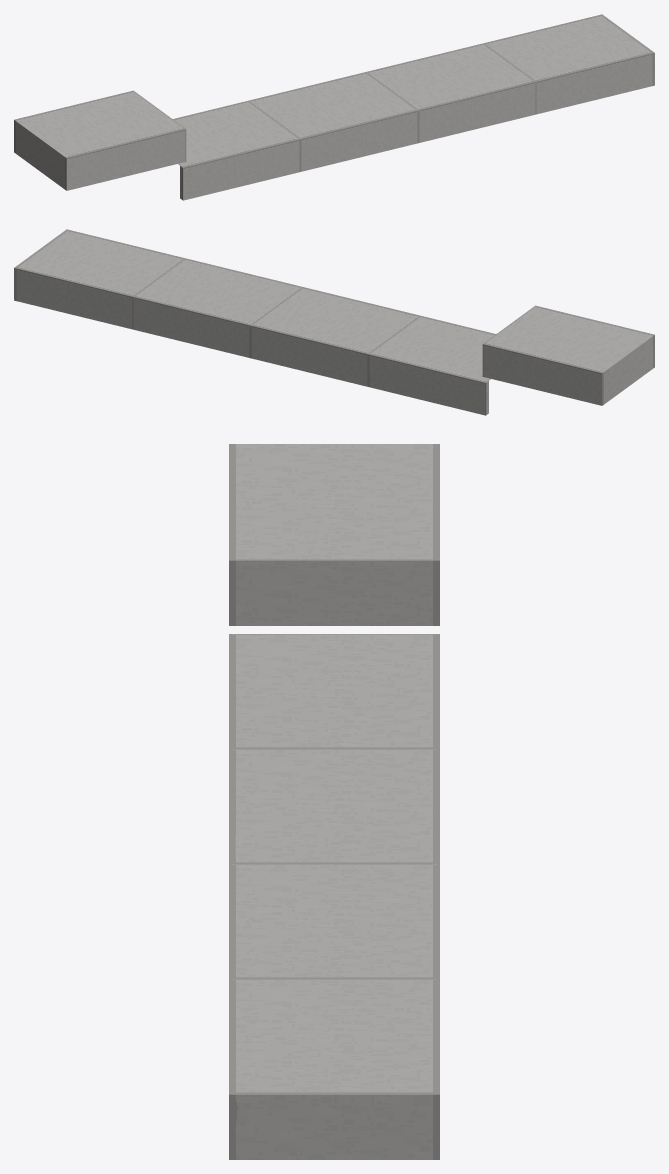
The model's file is kd_stage_135b75_4_146.glb.
3 renders of one model, top to bottom at view 1: azimuth 30°, elevation 25°; view 2: azimuth 150°, elevation 25°; view 3: azimuth 270°, elevation 25°, orthographic. The views are drawn at different scales.
Visible parts, largest first — view 1: kd_stage_135b75_4_146; view 2: kd_stage_135b75_4_146; view 3: kd_stage_135b75_4_146.
Boxes of the visible parts, x1,y1,x2,y2 form: kd_stage_135b75_4_146: [14, 14, 654, 200]; kd_stage_135b75_4_146: [14, 229, 654, 415]; kd_stage_135b75_4_146: [229, 444, 439, 1159].
Size of the model in its own units: 5.65 by 0.65 by 0.8777.
1 material, 1 textured.
